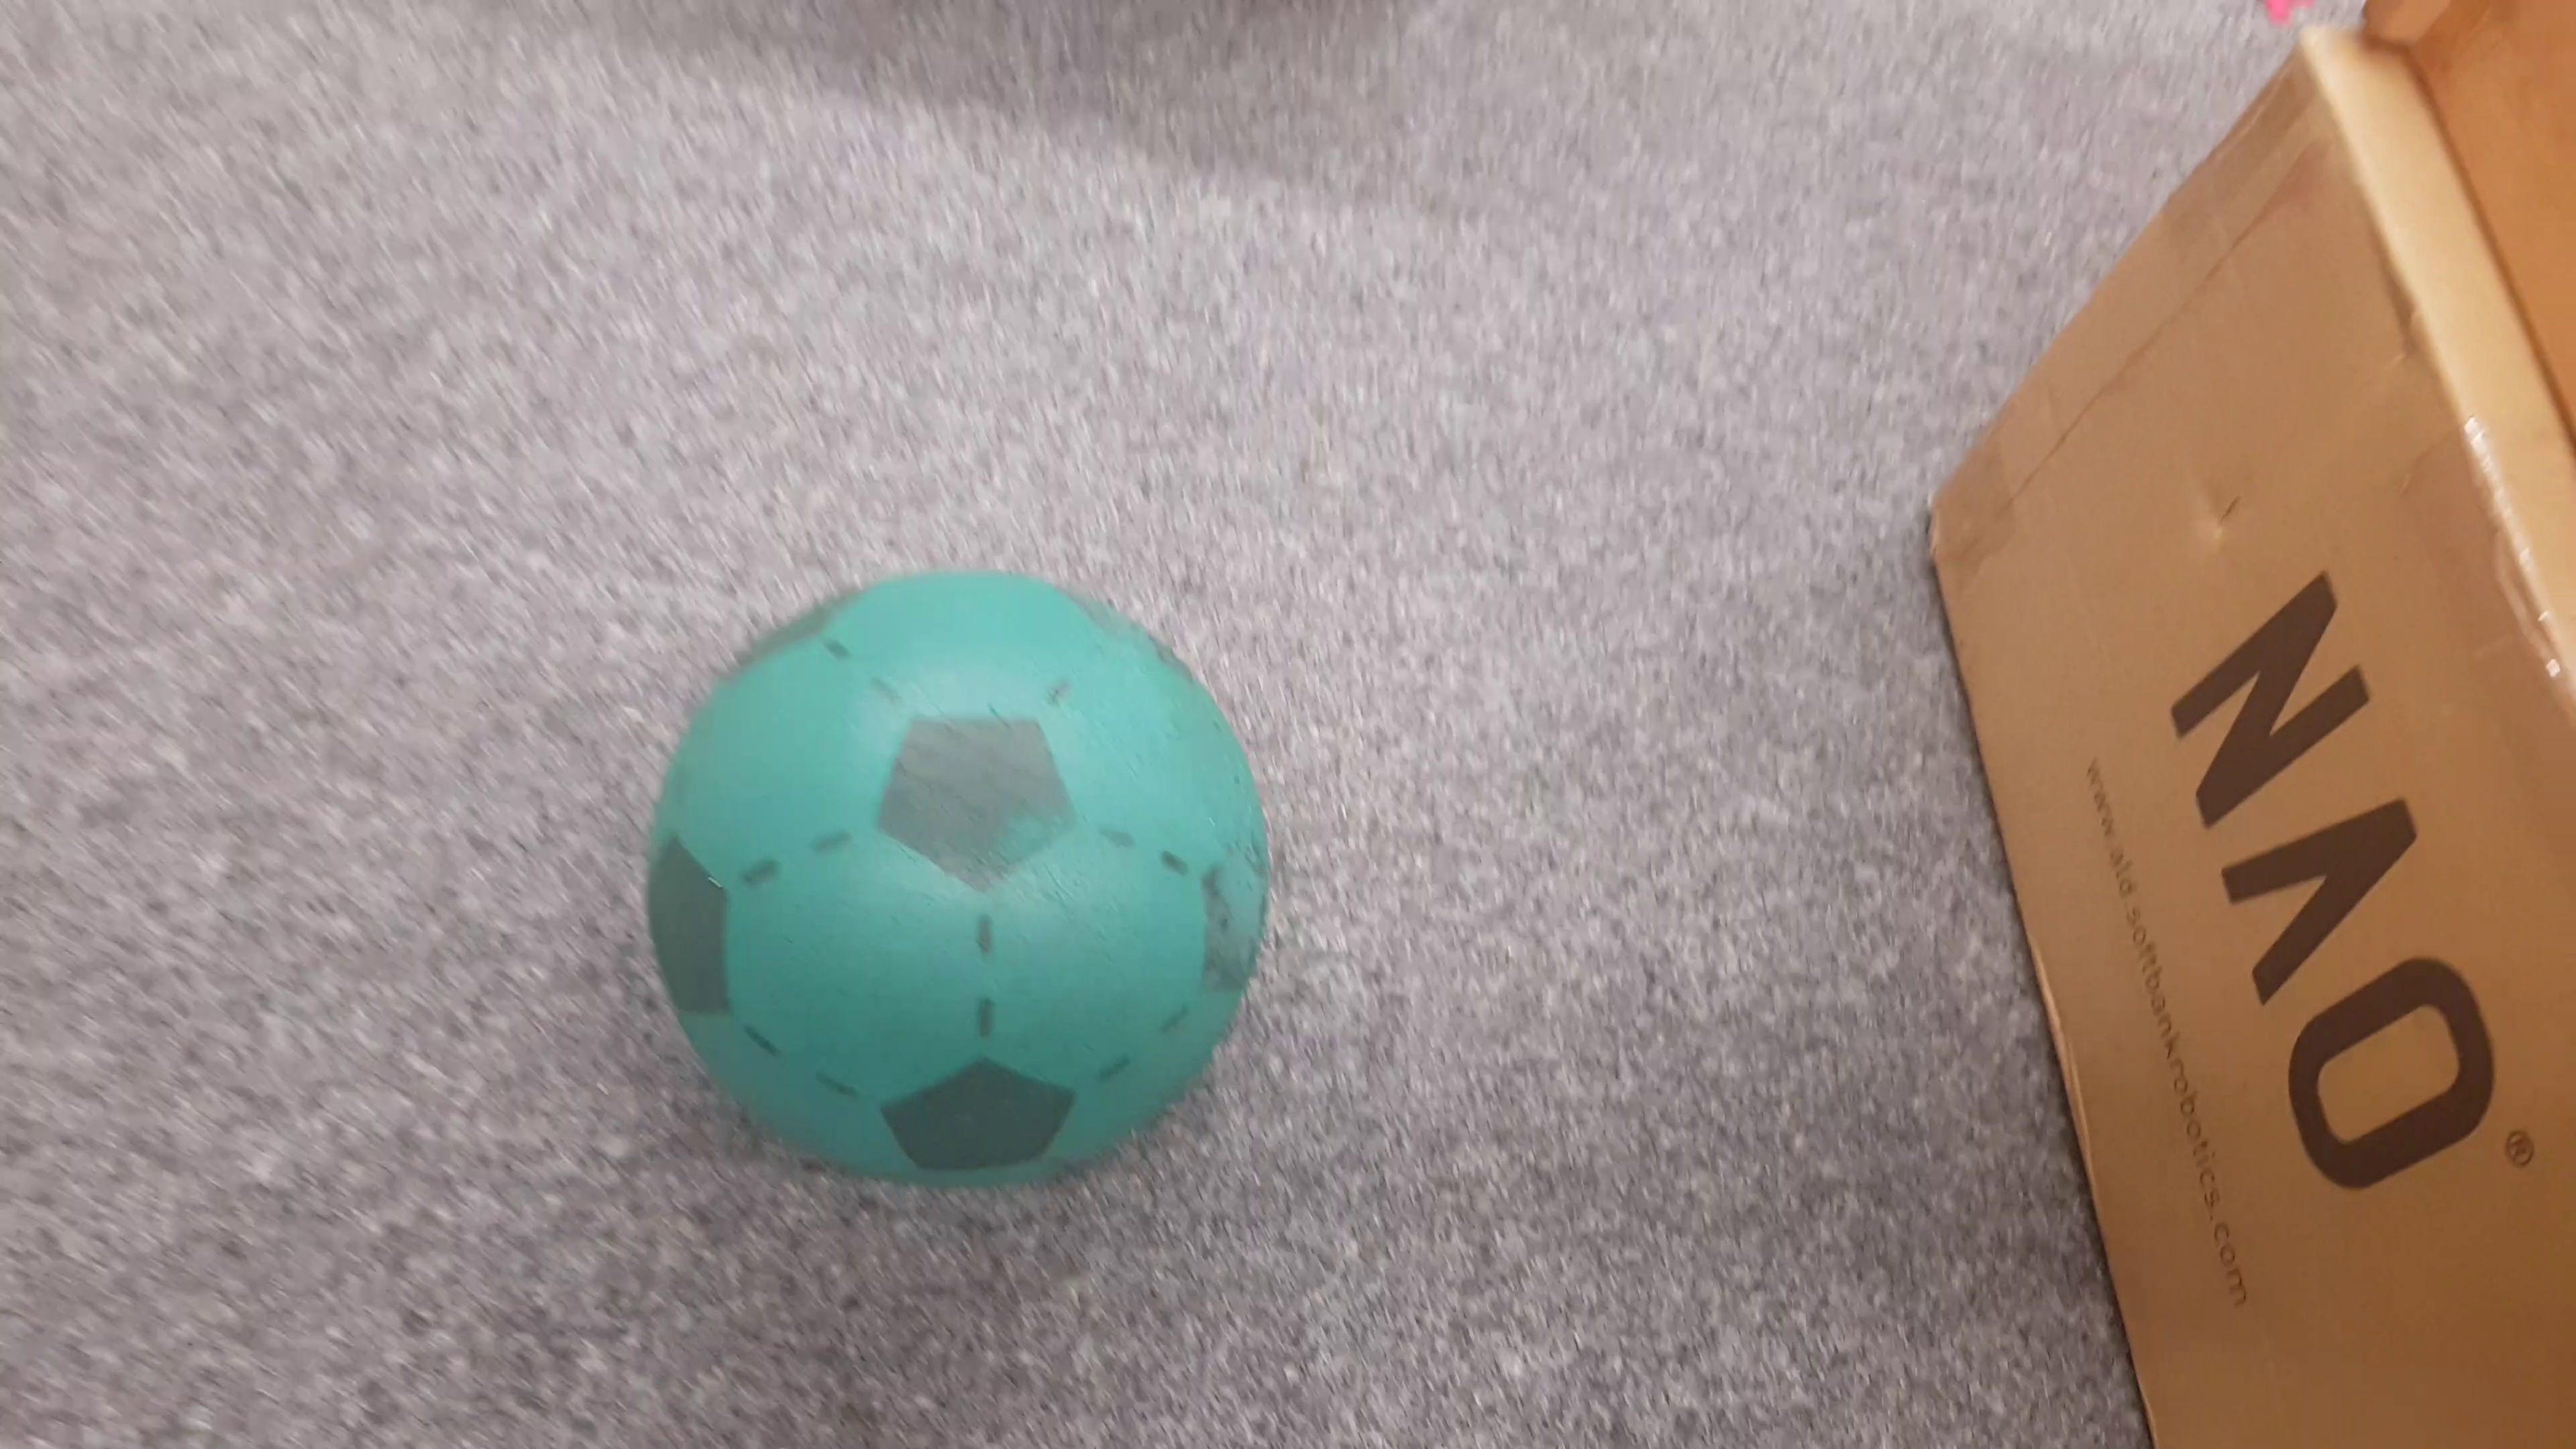kick: (649, 568, 1272, 1189)
